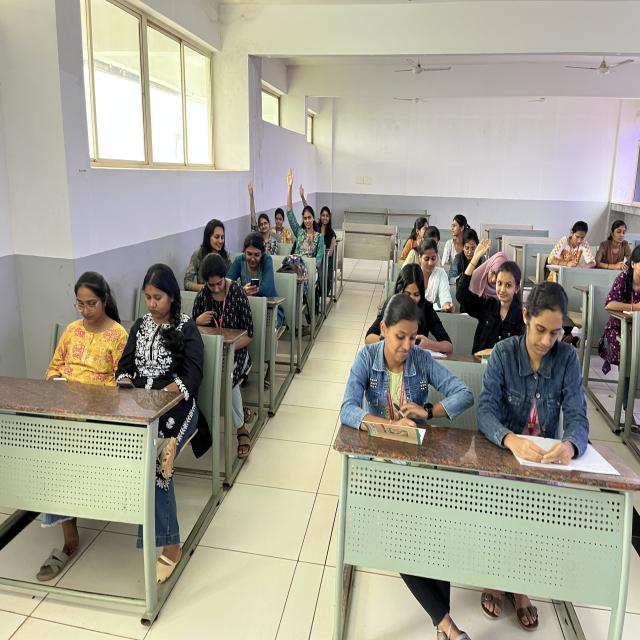Hand Rising: (459, 229, 531, 337), (280, 168, 324, 270), (245, 169, 282, 263), (290, 178, 340, 246)
Reading: (494, 277, 592, 488), (421, 236, 461, 334)
Using Phone: (26, 258, 129, 401), (116, 241, 190, 422), (232, 226, 288, 326)
